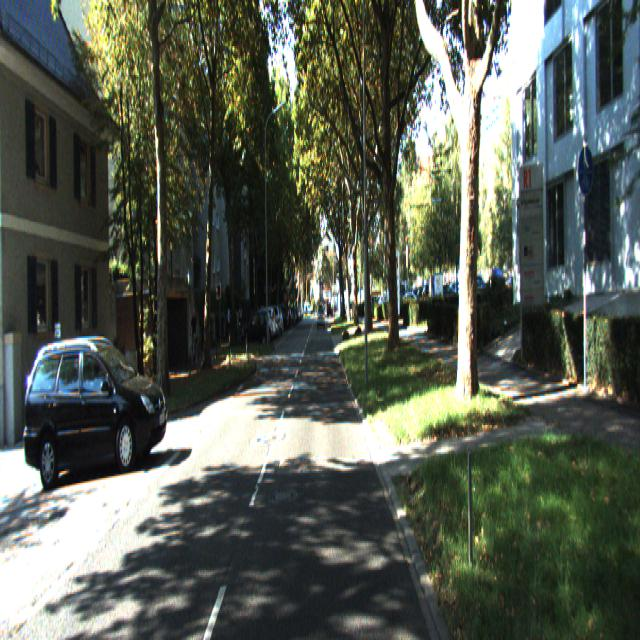Car: (24, 335, 169, 488), (241, 316, 269, 353)
